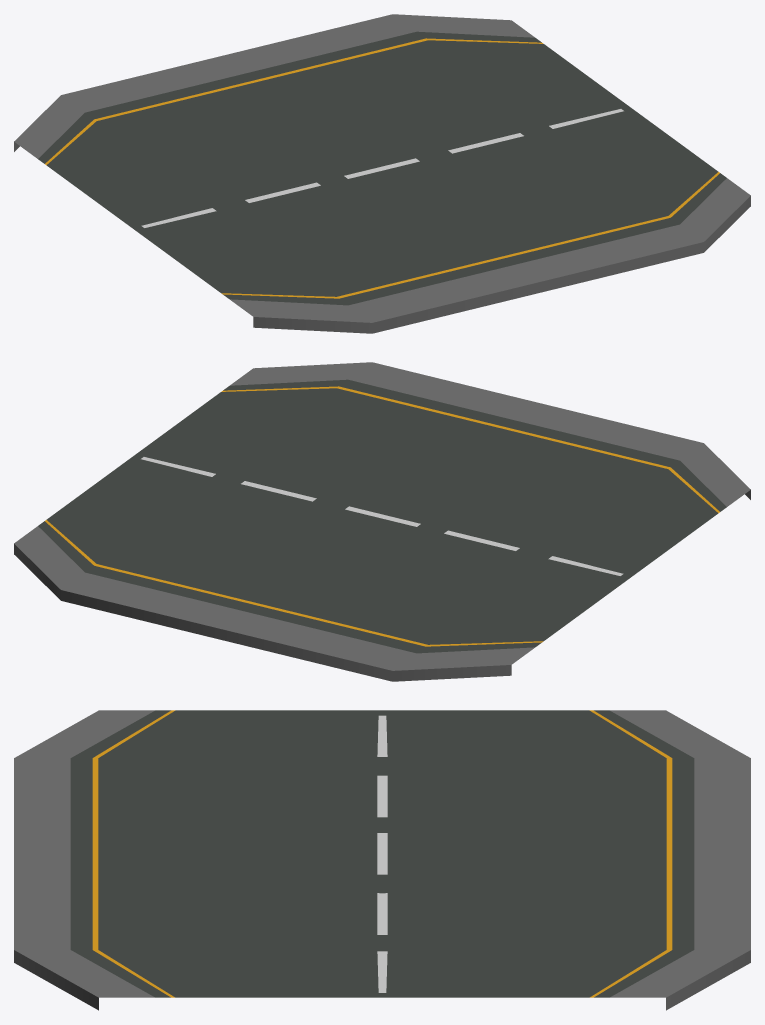
Rendered from SM_Road_7.FBX.
3 views of the same model, one above another, from view 1: azimuth 30°, elevation 25°; view 2: azimuth 150°, elevation 25°; view 3: azimuth 270°, elevation 25° (orthographic). The views are drawn at different scales.
Parts seen in each view (by area): view 1: SM_Road_7; view 2: SM_Road_7; view 3: SM_Road_7.
Boxes of the visible parts, box(x1,y1,x2,y2) form: SM_Road_7: box(14, 14, 750, 333); SM_Road_7: box(14, 362, 750, 681); SM_Road_7: box(14, 710, 750, 1010).
Size of what is drawn, in the model's own units: 1200 by 1300 by 25.
